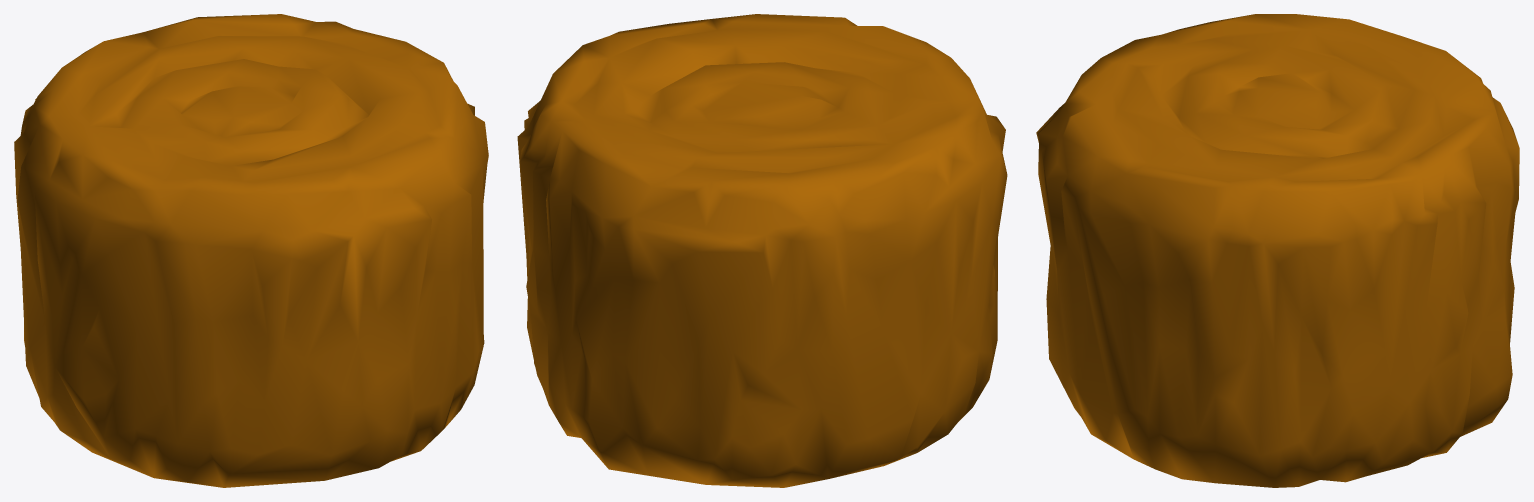
The model's file is Mod_choppingBlock_LODs.fbx.
3 renders of one model, left to right at view 1: azimuth 30°, elevation 25°; view 2: azimuth 150°, elevation 25°; view 3: azimuth 270°, elevation 25°, orthographic.
Visible parts, largest first — view 1: choppingBlock_LOD0; view 2: choppingBlock_LOD0; view 3: choppingBlock_LOD0.
Part boxes in pixels (x1,y1,x2,y2): choppingBlock_LOD0: [14, 14, 488, 487]; choppingBlock_LOD0: [517, 14, 1007, 487]; choppingBlock_LOD0: [1036, 14, 1519, 487].
Size of the model in its own units: 63.39 by 43.77 by 63.72.
